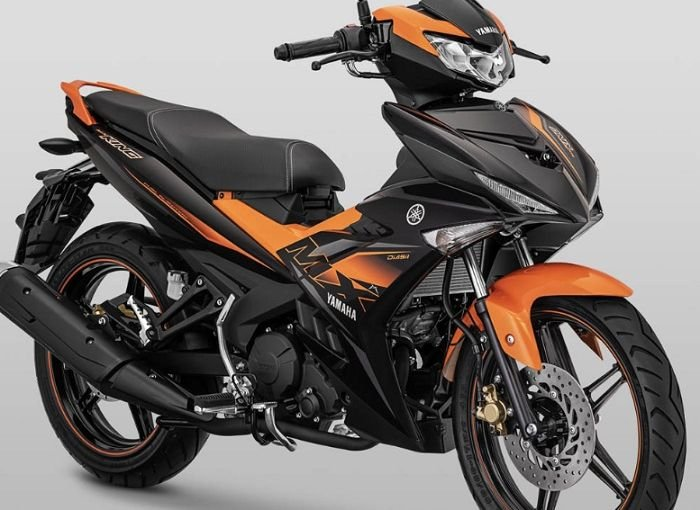motor: (21, 7, 691, 510)
